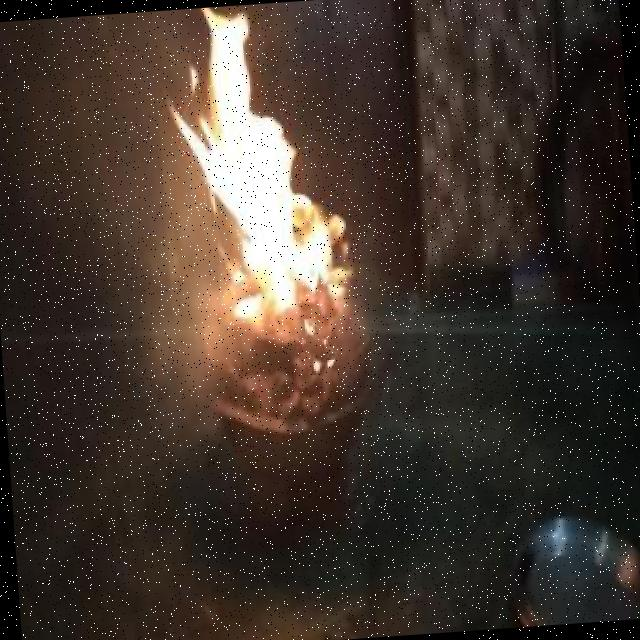fire: (151, 0, 357, 328)
